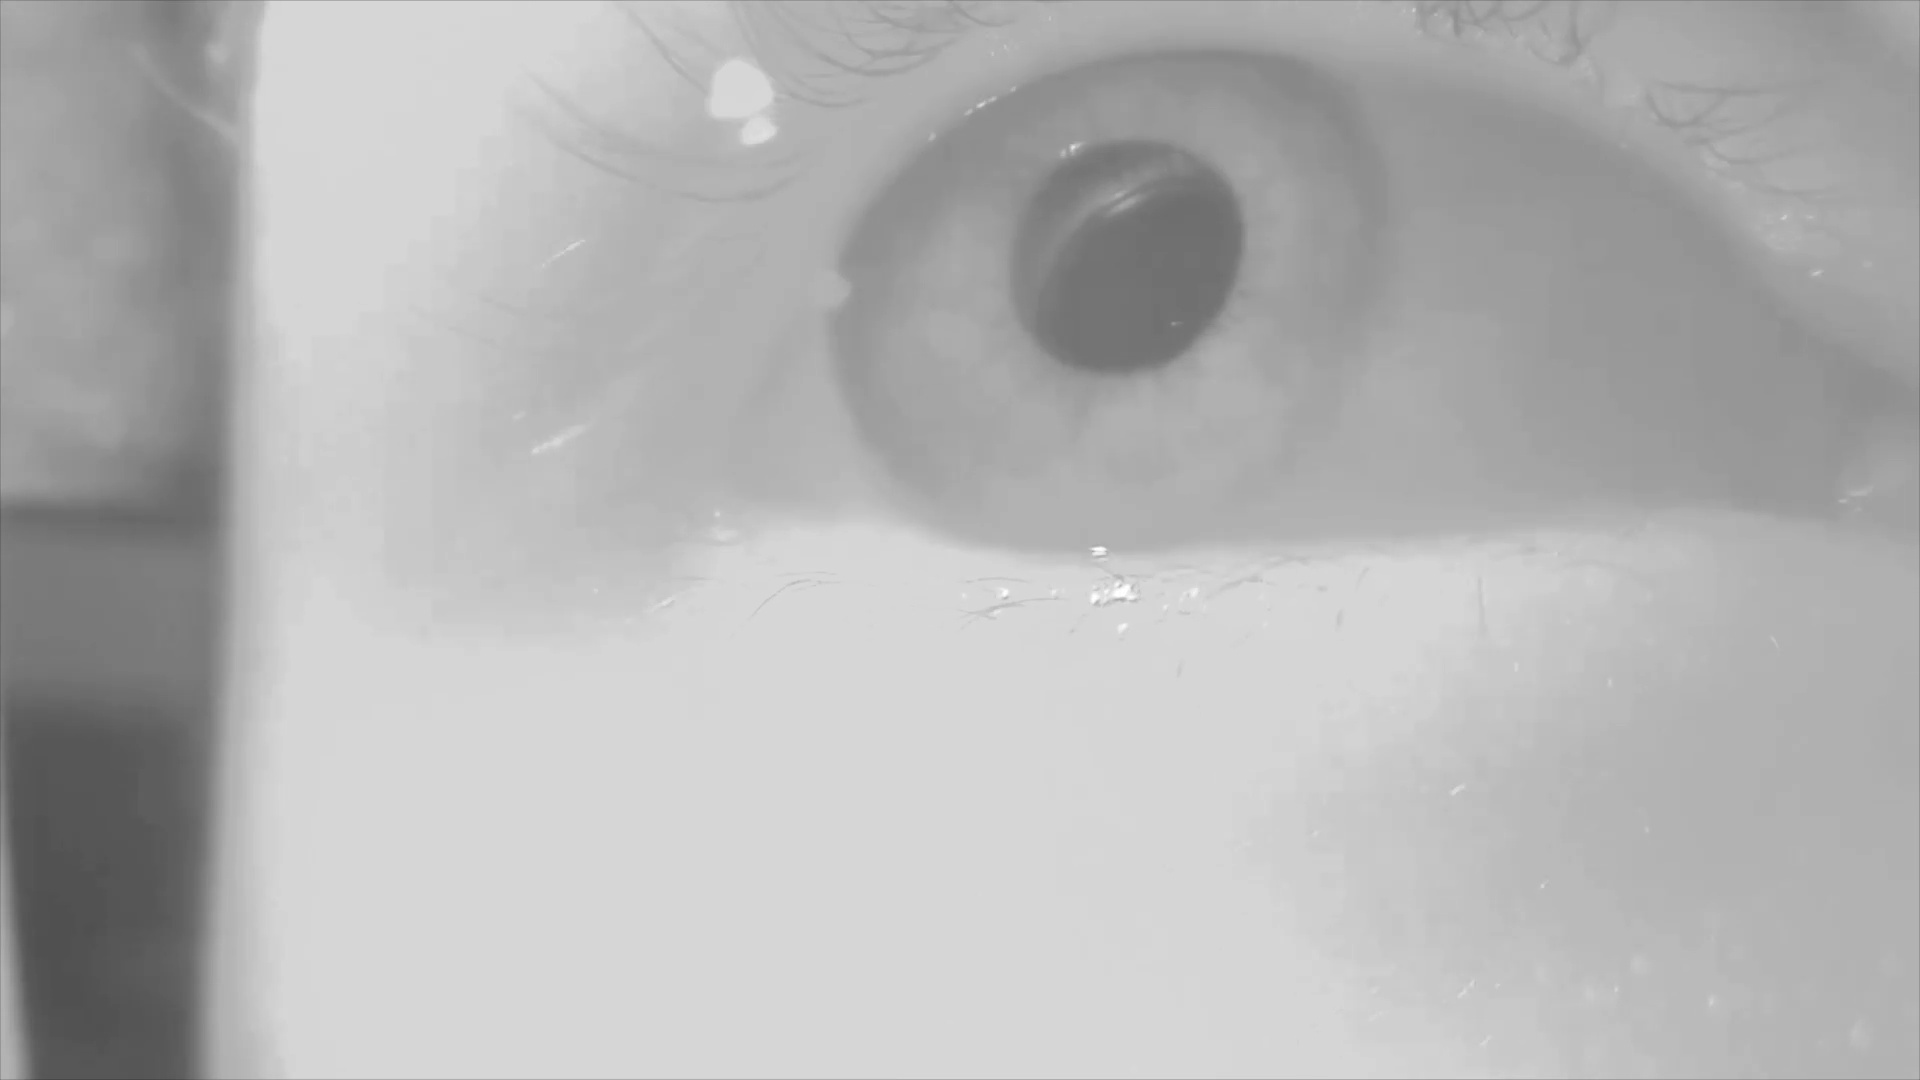pupil: (1016, 148, 1247, 370)
